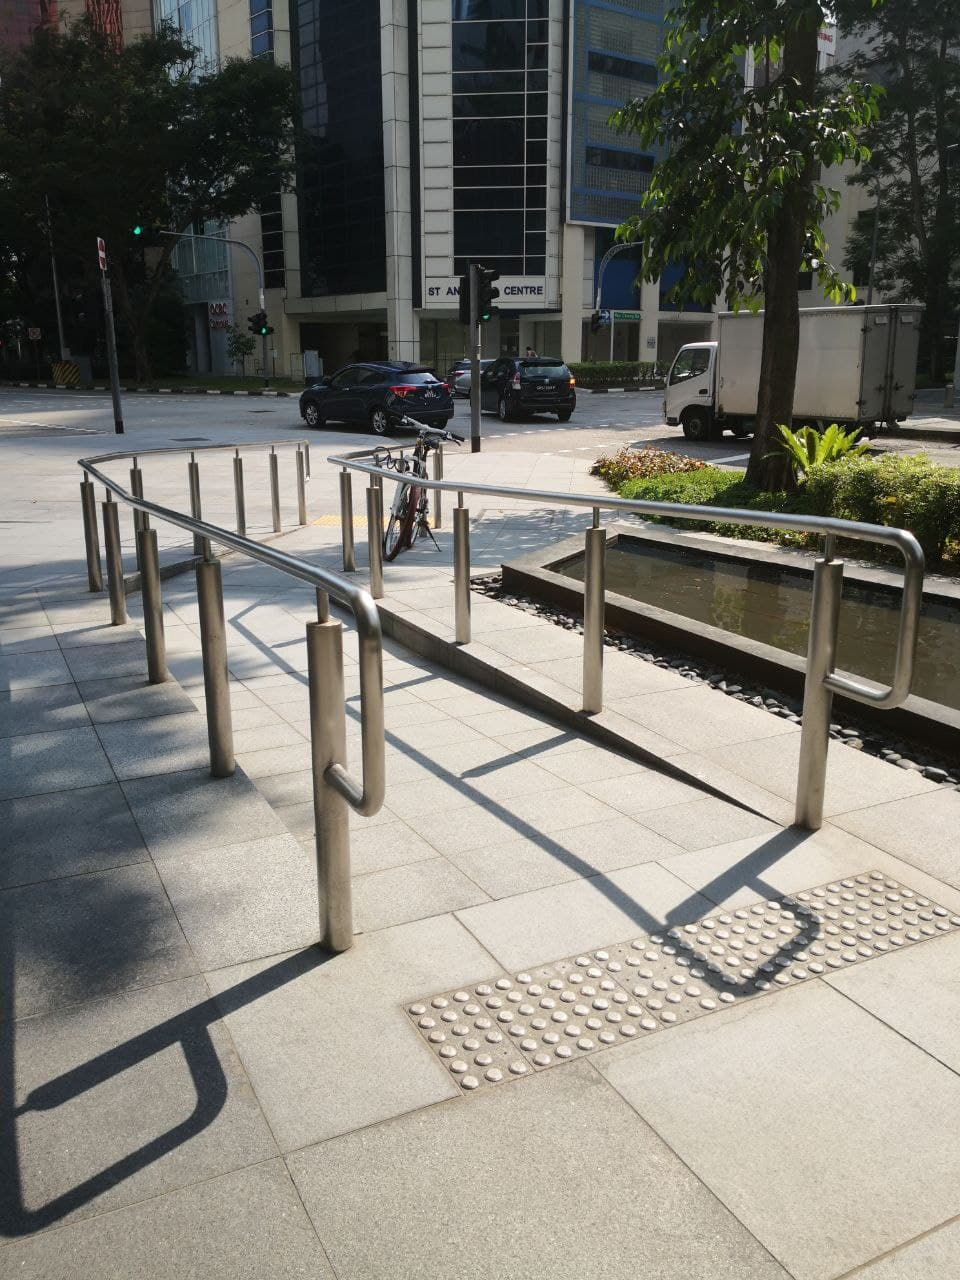slopes: (52, 440, 960, 1112)
